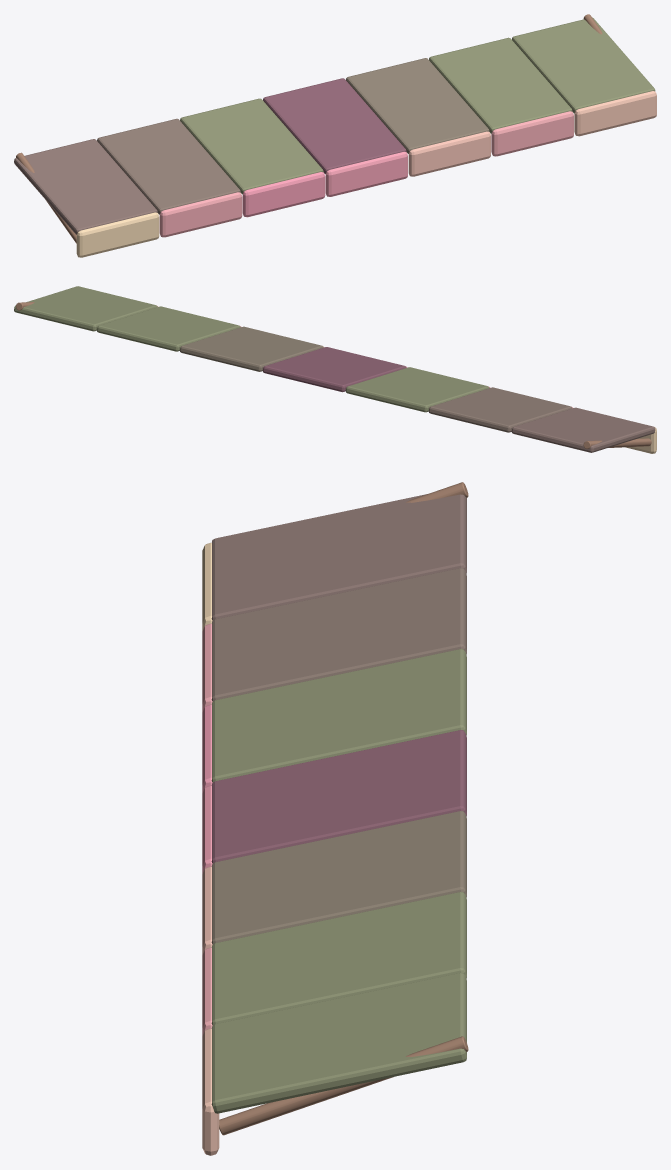
File: WC_RIVER_Awning_Jade_A.glb
3 renders of one model, top to bottom at view 1: azimuth 30°, elevation 25°; view 2: azimuth 150°, elevation 25°; view 3: azimuth 270°, elevation 25°, orthographic. The views are drawn at different scales.
Visible parts, largest first — view 1: WC_RIVER_Awning_Jade_A_RenderMesh; view 2: WC_RIVER_Awning_Jade_A_RenderMesh; view 3: WC_RIVER_Awning_Jade_A_RenderMesh.
Boxes of the visible parts, x1=… form: WC_RIVER_Awning_Jade_A_RenderMesh: x1=14, y1=14, x2=656, y2=257; WC_RIVER_Awning_Jade_A_RenderMesh: x1=14, y1=286, x2=656, y2=453; WC_RIVER_Awning_Jade_A_RenderMesh: x1=202, y1=482, x2=468, y2=1155.
Size of the model in its own units: 3.59 by 0.3443 by 0.7142.
